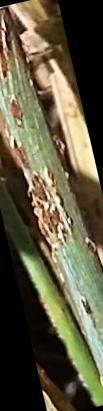Wheat: (30, 172, 73, 252), (0, 26, 26, 127)
